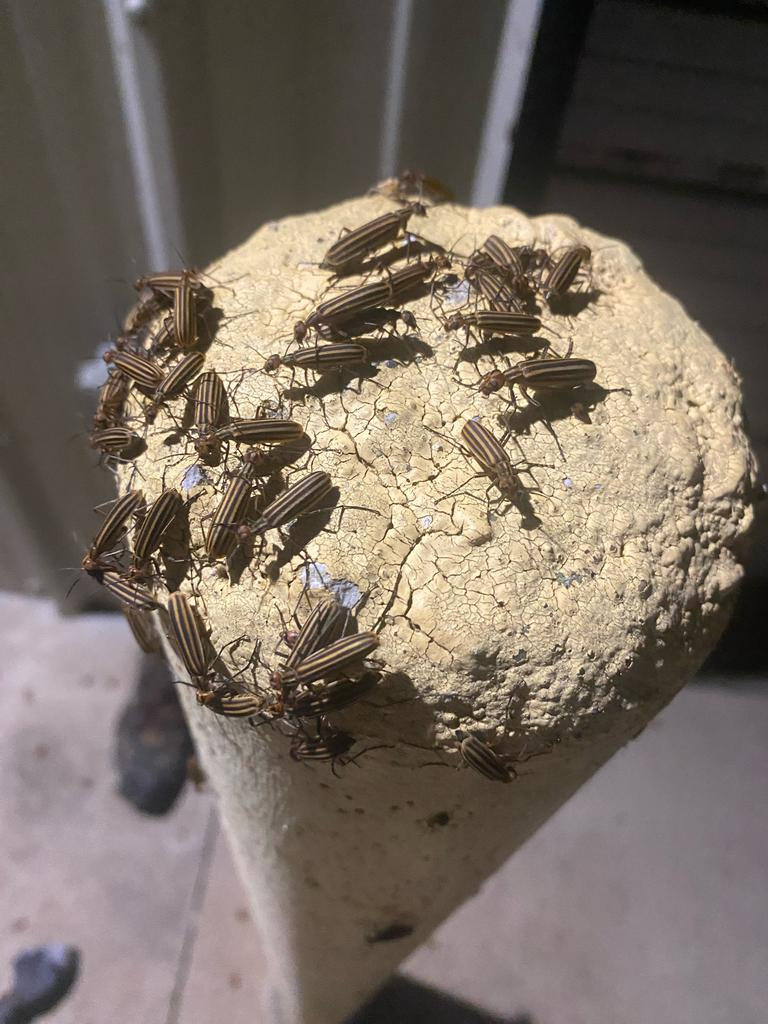blister_beetle: (432, 407, 575, 520), (469, 325, 627, 426), (264, 593, 392, 702), (294, 185, 427, 284), (272, 266, 410, 353), (231, 465, 347, 552), (156, 581, 228, 705), (119, 477, 198, 585), (175, 362, 232, 465), (99, 334, 171, 405)
